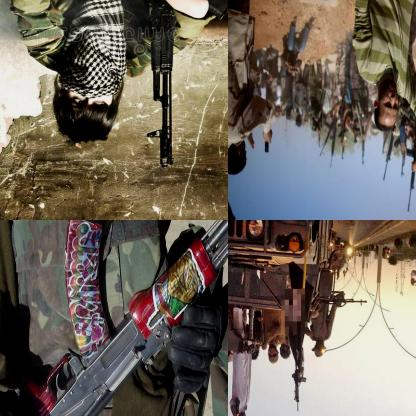rifle: (0, 220, 227, 415), (144, 0, 227, 169), (316, 286, 369, 310), (402, 123, 415, 215), (289, 362, 307, 415)
